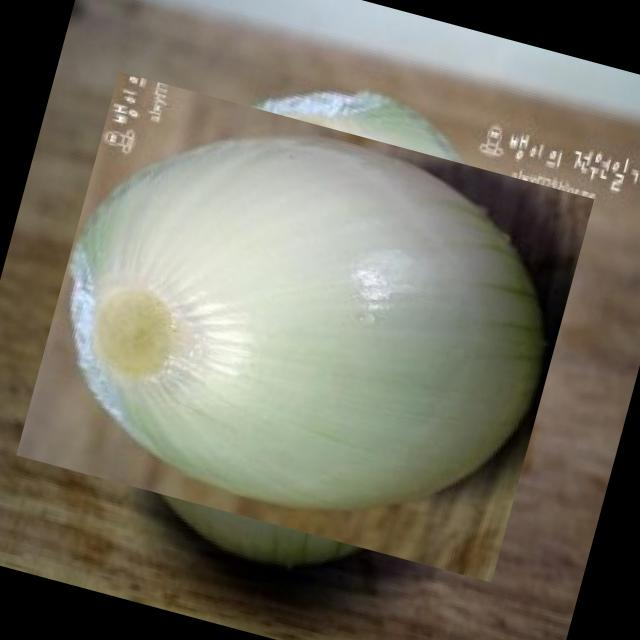Onion: (32, 54, 578, 599)
